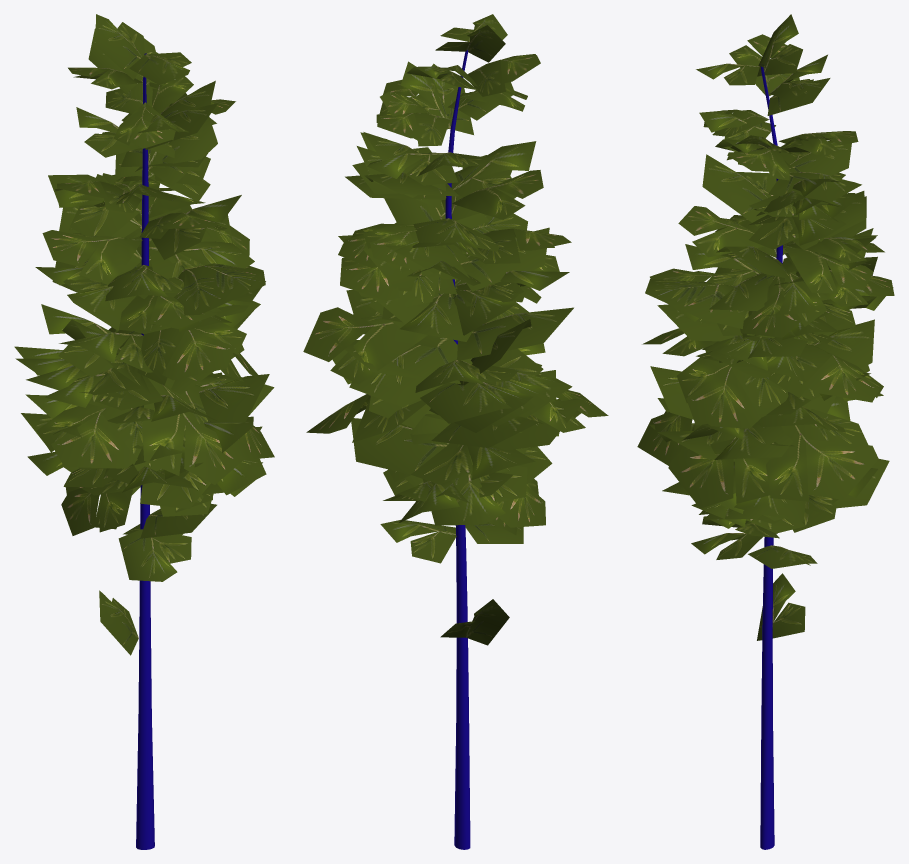
The model's file is Bamboo_C.fbx.
3 renders of one model, left to right at view 1: azimuth 30°, elevation 25°; view 2: azimuth 150°, elevation 25°; view 3: azimuth 270°, elevation 25°, orthographic. The views are drawn at different scales.
Visible parts, largest first — view 1: Geometry_Bamboo_C_LOD00; view 2: Geometry_Bamboo_C_LOD00; view 3: Geometry_Bamboo_C_LOD00.
Boxes of the visible parts, left/top/right/bottom form: Geometry_Bamboo_C_LOD00: left=14, top=14, right=274, bottom=849; Geometry_Bamboo_C_LOD00: left=303, top=14, right=608, bottom=849; Geometry_Bamboo_C_LOD00: left=637, top=14, right=894, bottom=849.
Size of what is drawn, in the model's own units: 101 by 352 by 101.
